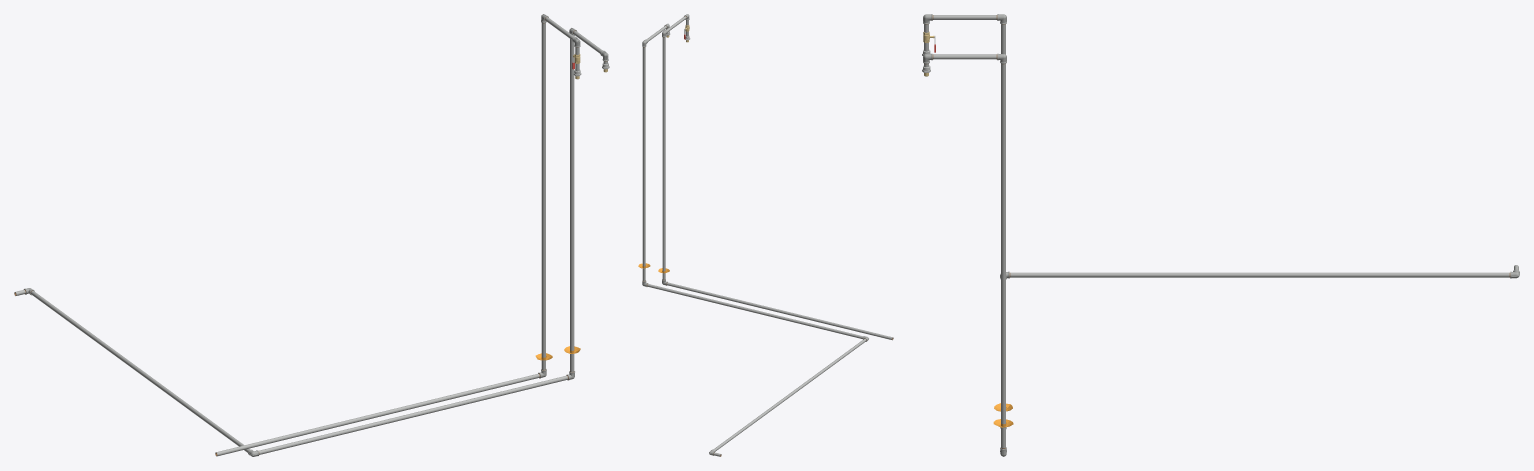
Rendered from pipes_supply__water_heater-closet_gas_tank+closet_electric_tank_and_plumbing-galvanized.glb.
The picture shows the model from 3 angles, left to right: view 1: azimuth 30°, elevation 25°; view 2: azimuth 150°, elevation 25°; view 3: azimuth 270°, elevation 25°; orthographic projection. The views are drawn at different scales.
Visible parts, largest first — view 1: pipe_supply_hot_wh_closet__galvanized, pipe_supply_cold_wh_closet__galvanized; view 2: pipe_supply_hot_wh_closet__galvanized, pipe_supply_cold_wh_closet__galvanized; view 3: pipe_supply_hot_wh_closet__galvanized.
Part boxes in pixels (x1=…): pipe_supply_hot_wh_closet__galvanized: x1=14, y1=31, x2=607, y2=454; pipe_supply_cold_wh_closet__galvanized: x1=215, y1=17, x2=579, y2=456; pipe_supply_hot_wh_closet__galvanized: x1=642, y1=25, x2=866, y2=456; pipe_supply_cold_wh_closet__galvanized: x1=662, y1=16, x2=893, y2=340; pipe_supply_hot_wh_closet__galvanized: x1=924, y1=54, x2=1518, y2=448.
Size of the model in its own units: 2.57 by 2.52 by 3.2.
